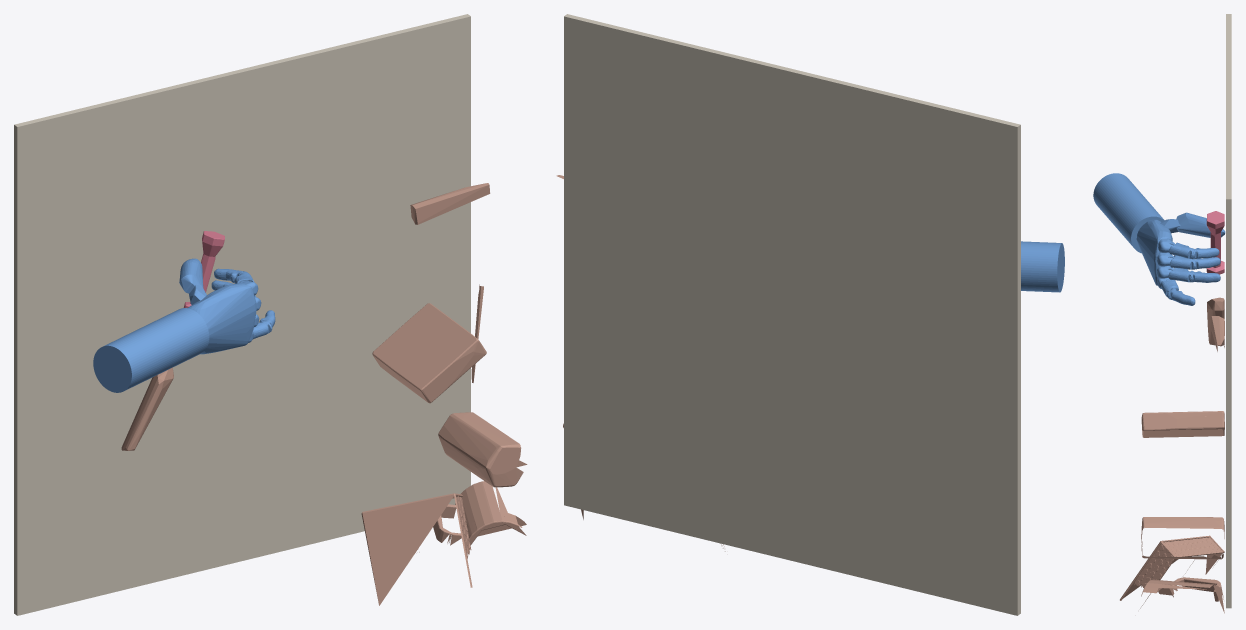
3 views of the same model, side by side, from view 1: azimuth 30°, elevation 25°; view 2: azimuth 150°, elevation 25°; view 3: azimuth 270°, elevation 25° (orthographic). The views are drawn at different scales.
Visible parts, largest first — view 1: environment, hand, obstacle_002, obstacle_006, obstacle_005, obstacle_004, obstacle_001, obstacle_000, world; view 2: environment, hand; view 3: hand, environment, obstacle_006, obstacle_002, obstacle_005, obstacle_004, world, obstacle_001, obstacle_000.
Boxes of the visible parts, left/top/right/bottom form: environment: left=14, top=14, right=470, bottom=615; hand: left=93, top=258, right=275, bottom=392; obstacle_002: left=372, top=303, right=486, bottom=403; obstacle_006: left=361, top=493, right=472, bottom=605; obstacle_005: left=438, top=412, right=527, bottom=487; obstacle_004: left=433, top=481, right=526, bottom=545; obstacle_001: left=121, top=367, right=173, bottom=450; obstacle_000: left=410, top=183, right=490, bottom=224; world: left=183, top=231, right=224, bottom=307; environment: left=564, top=14, right=1020, bottom=615; hand: left=1021, top=241, right=1064, bottom=292; hand: left=1093, top=173, right=1225, bottom=305; environment: left=1226, top=14, right=1231, bottom=608; obstacle_006: left=1120, top=535, right=1224, bottom=608; obstacle_002: left=1141, top=411, right=1224, bottom=437; obstacle_005: left=1141, top=517, right=1224, bottom=559; obstacle_004: left=1141, top=577, right=1224, bottom=613; world: left=1206, top=211, right=1224, bottom=274; obstacle_001: left=1207, top=297, right=1224, bottom=346; obstacle_000: left=1211, top=316, right=1224, bottom=351.
Size of the model in its own units: 0.6547 by 0.7152 by 0.2.
